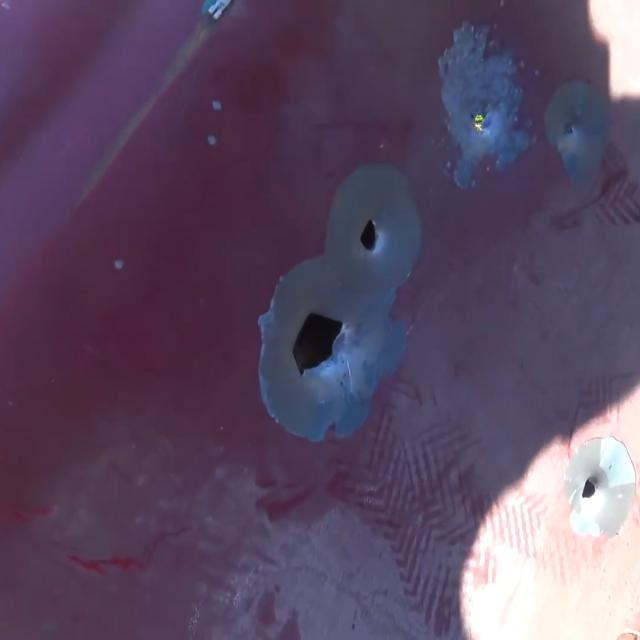bullets: (251, 272, 408, 442), (314, 168, 423, 302), (432, 41, 528, 183), (553, 437, 635, 543), (538, 80, 610, 183)
